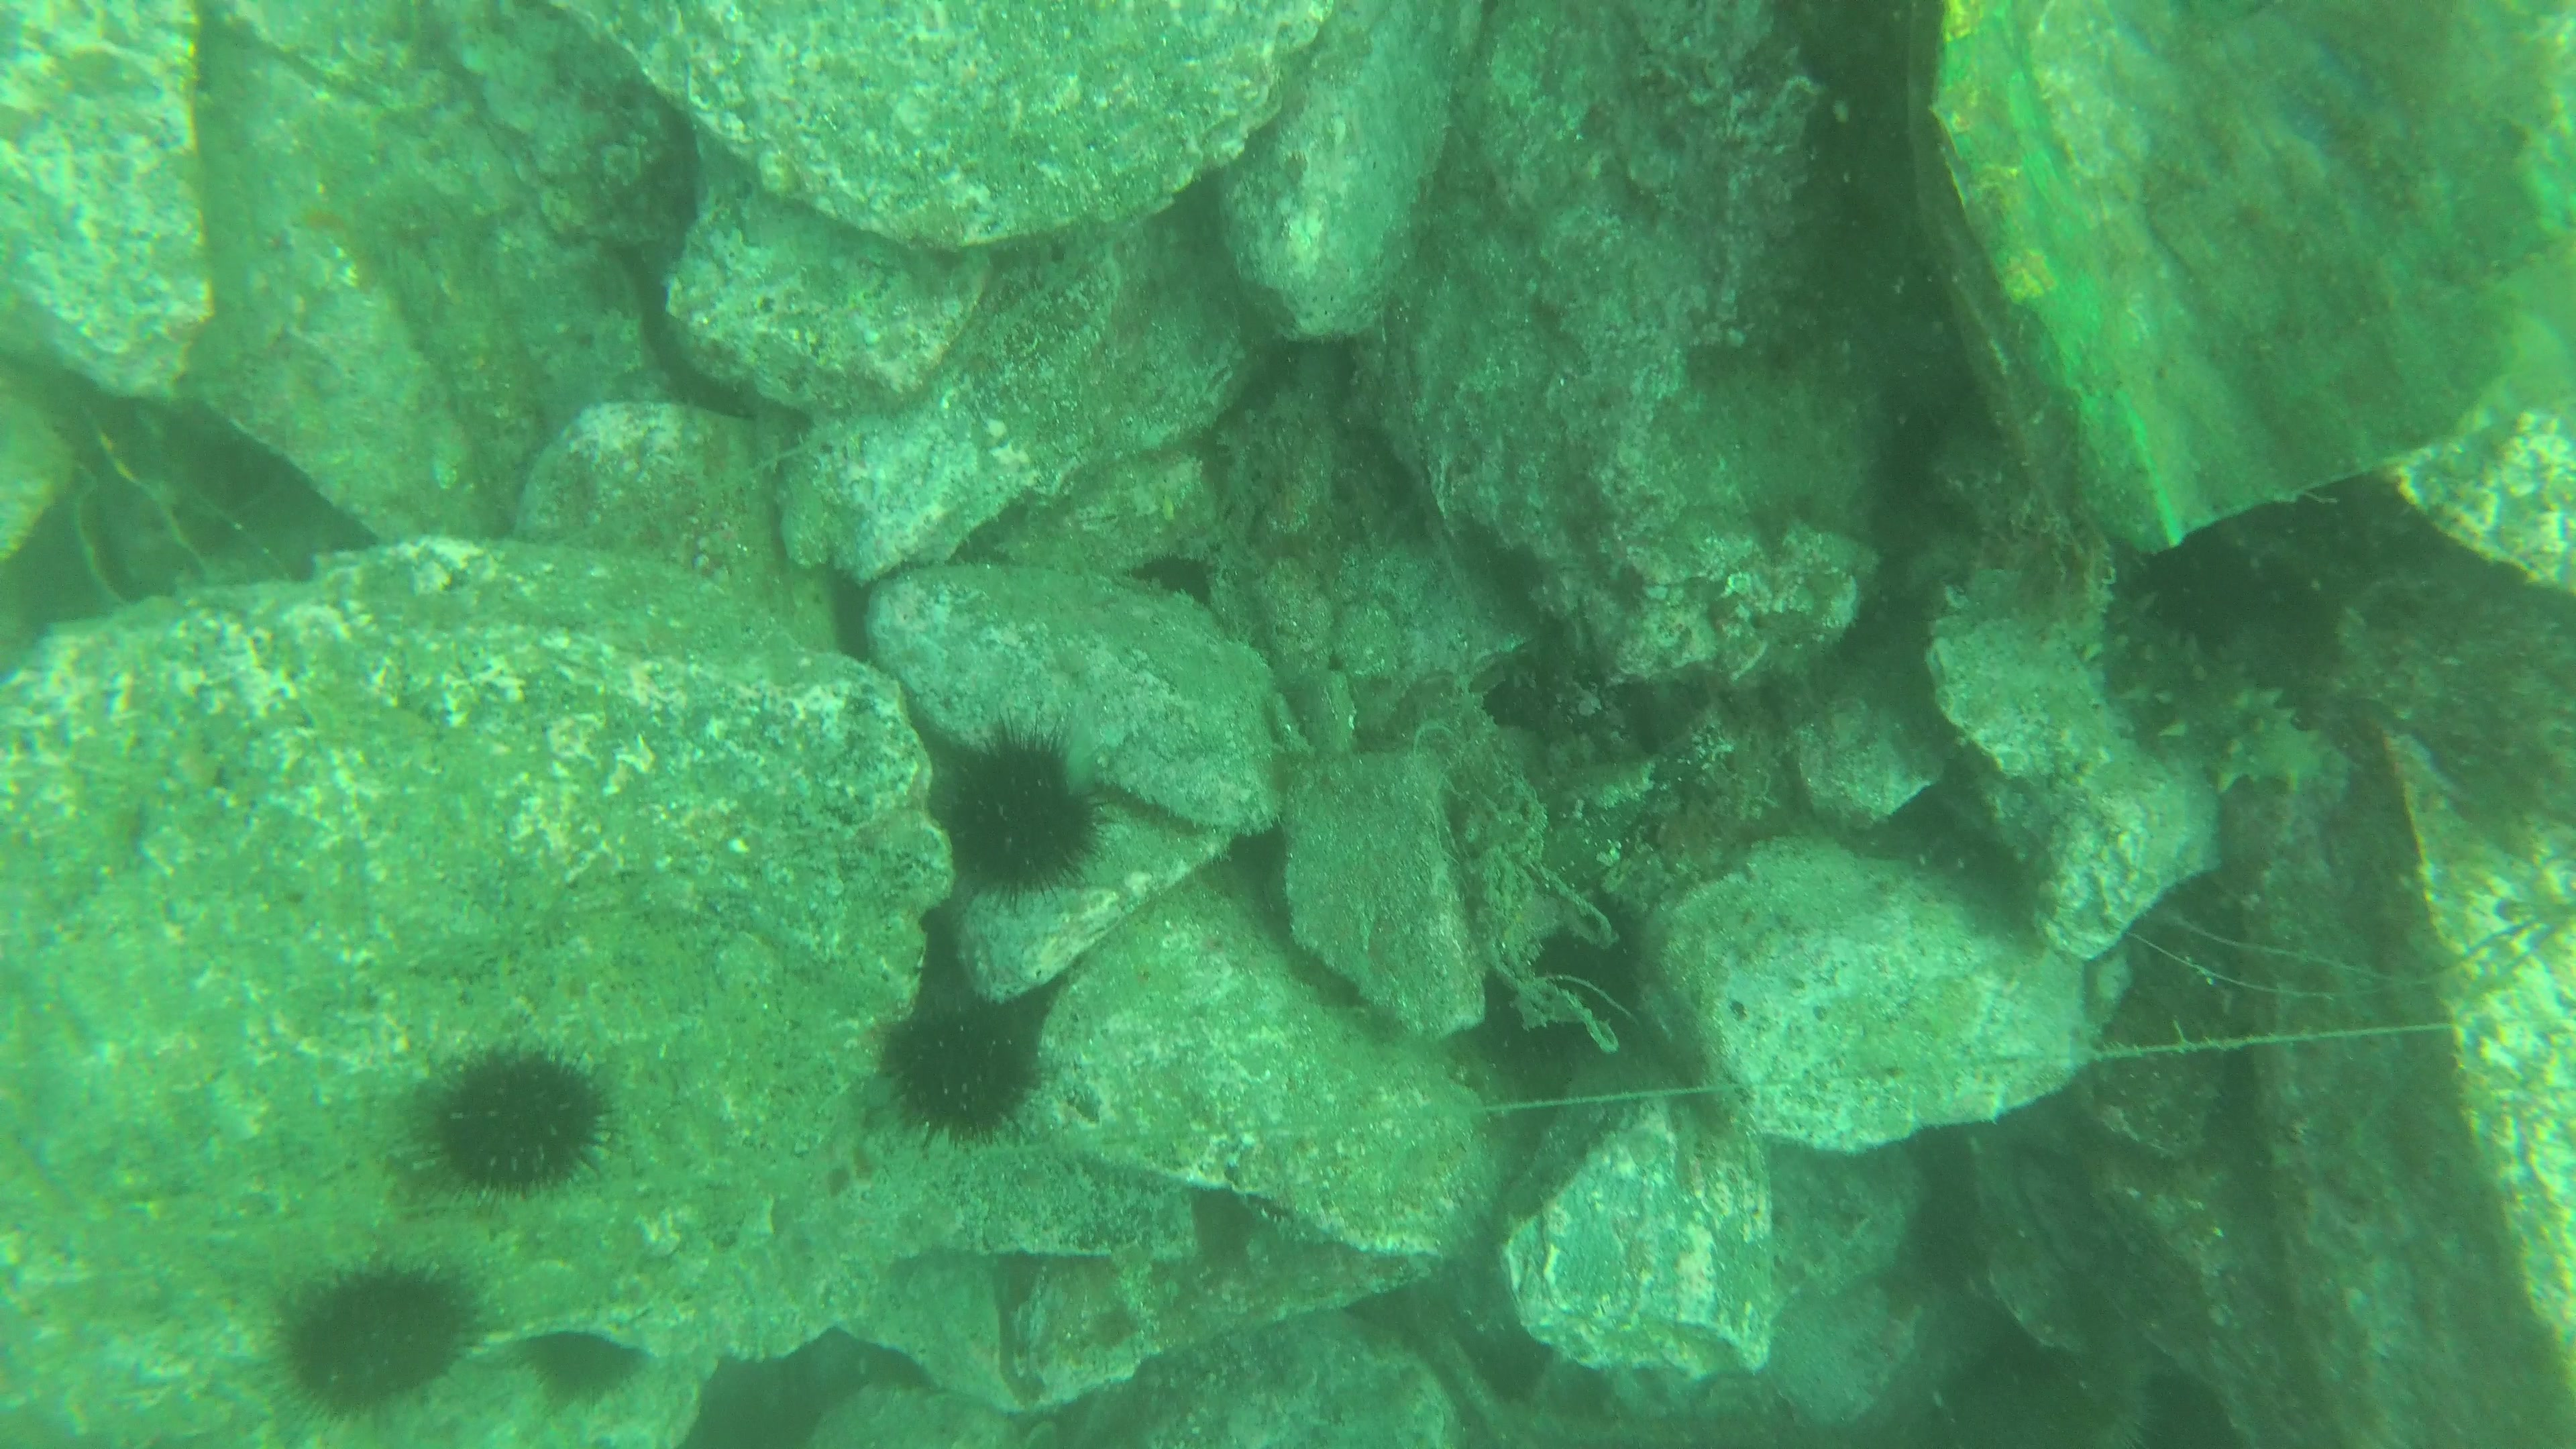echinus: (412, 1047, 628, 1205), (925, 724, 1108, 904), (274, 1256, 487, 1407), (867, 1005, 1042, 1154), (522, 1332, 639, 1405), (1123, 547, 1221, 607)
holothurian: (2091, 587, 2339, 801)
